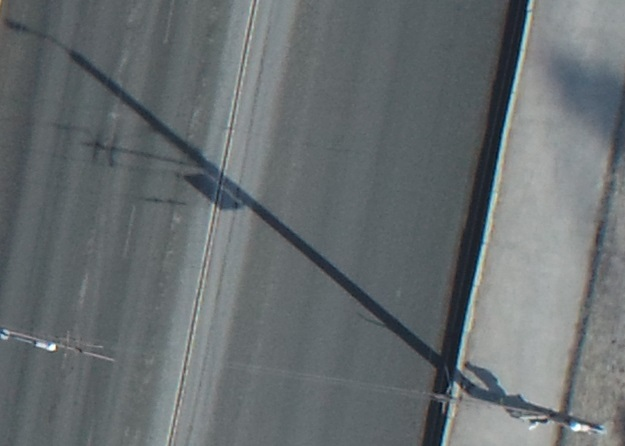opora: (401, 316, 608, 435)
